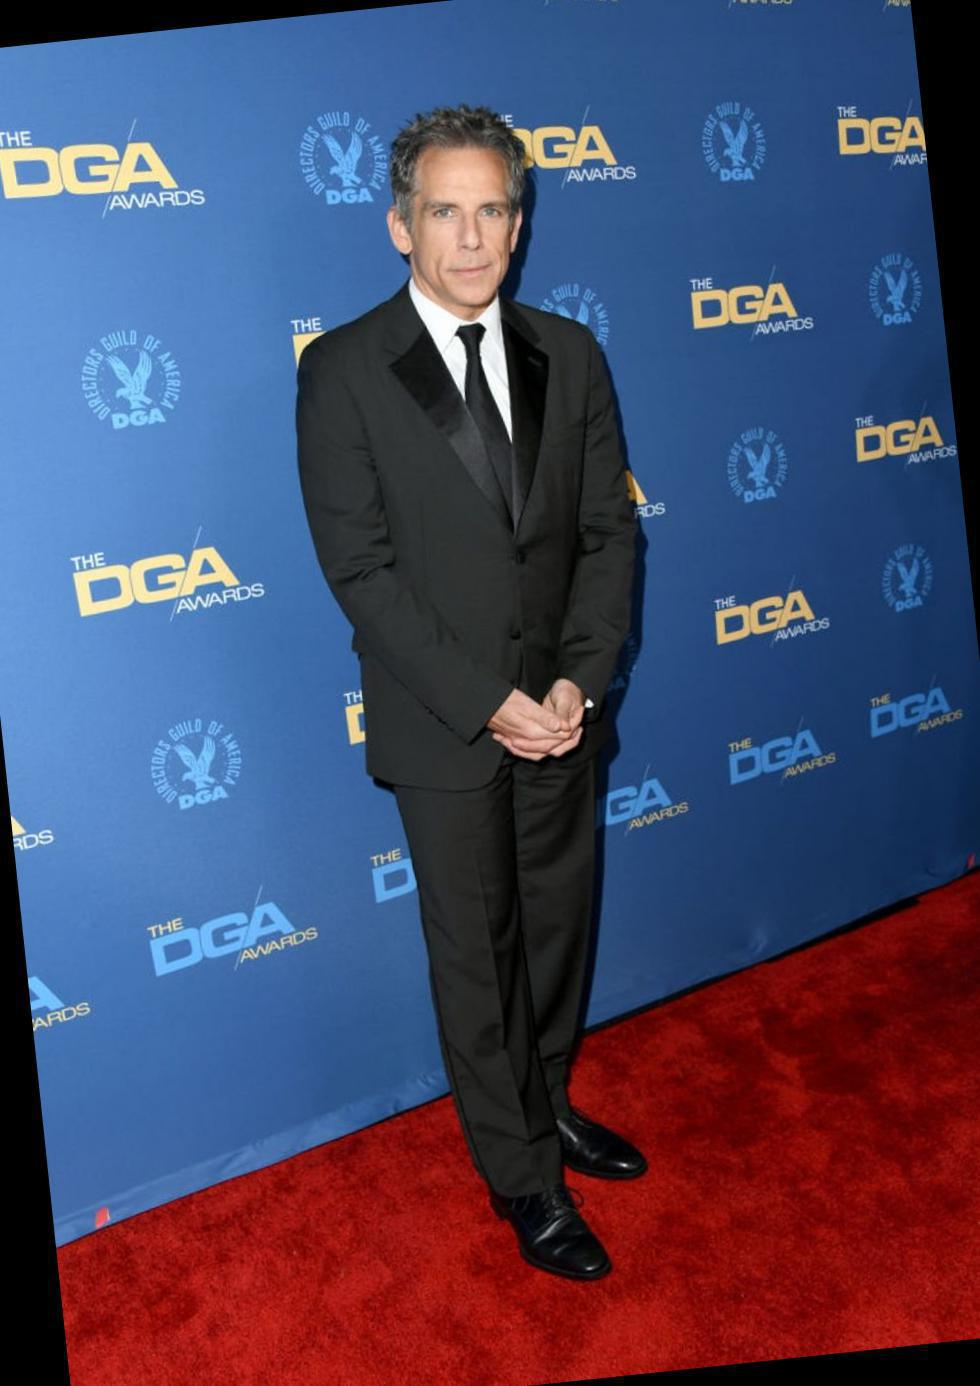Sober: (421, 147, 513, 296)
